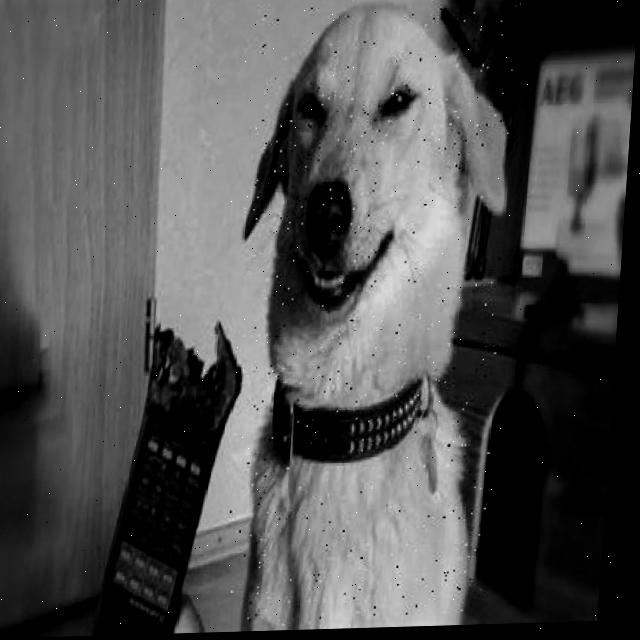Dog: (222, 0, 523, 630)
